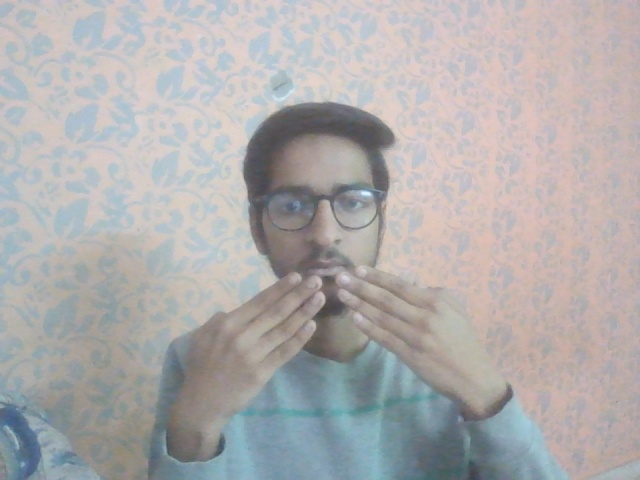ThankYou: (167, 265, 498, 431)
